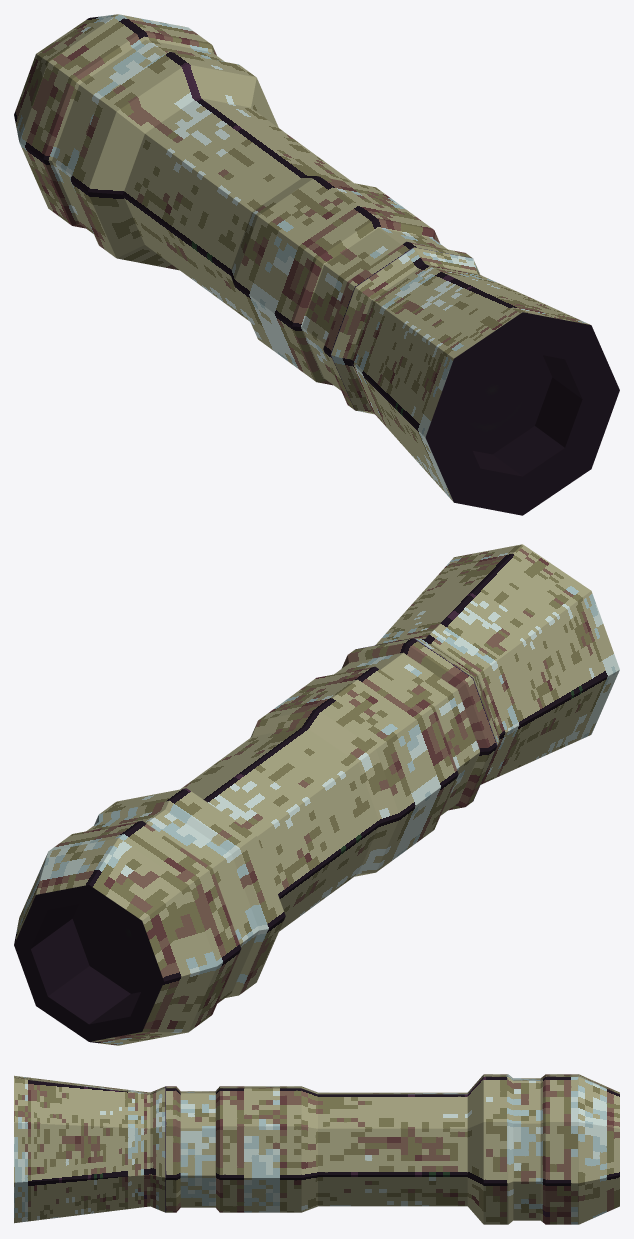
The model's file is launcher.glb.
3 views of the same model, one above another, from view 1: azimuth 30°, elevation 25°; view 2: azimuth 150°, elevation 25°; view 3: azimuth 270°, elevation 25° (orthographic). The views are drawn at different scales.
Parts seen in each view (by area): view 1: Circle; view 2: Circle; view 3: Circle.
Part boxes in pixels (<box>): Circle: <box>14,14,619,515</box>; Circle: <box>14,544,619,1045</box>; Circle: <box>14,1074,619,1224</box>.
Size of the model in its own units: 1.06 by 1.06 by 4.
Materials: 1 (1 with a texture image).
